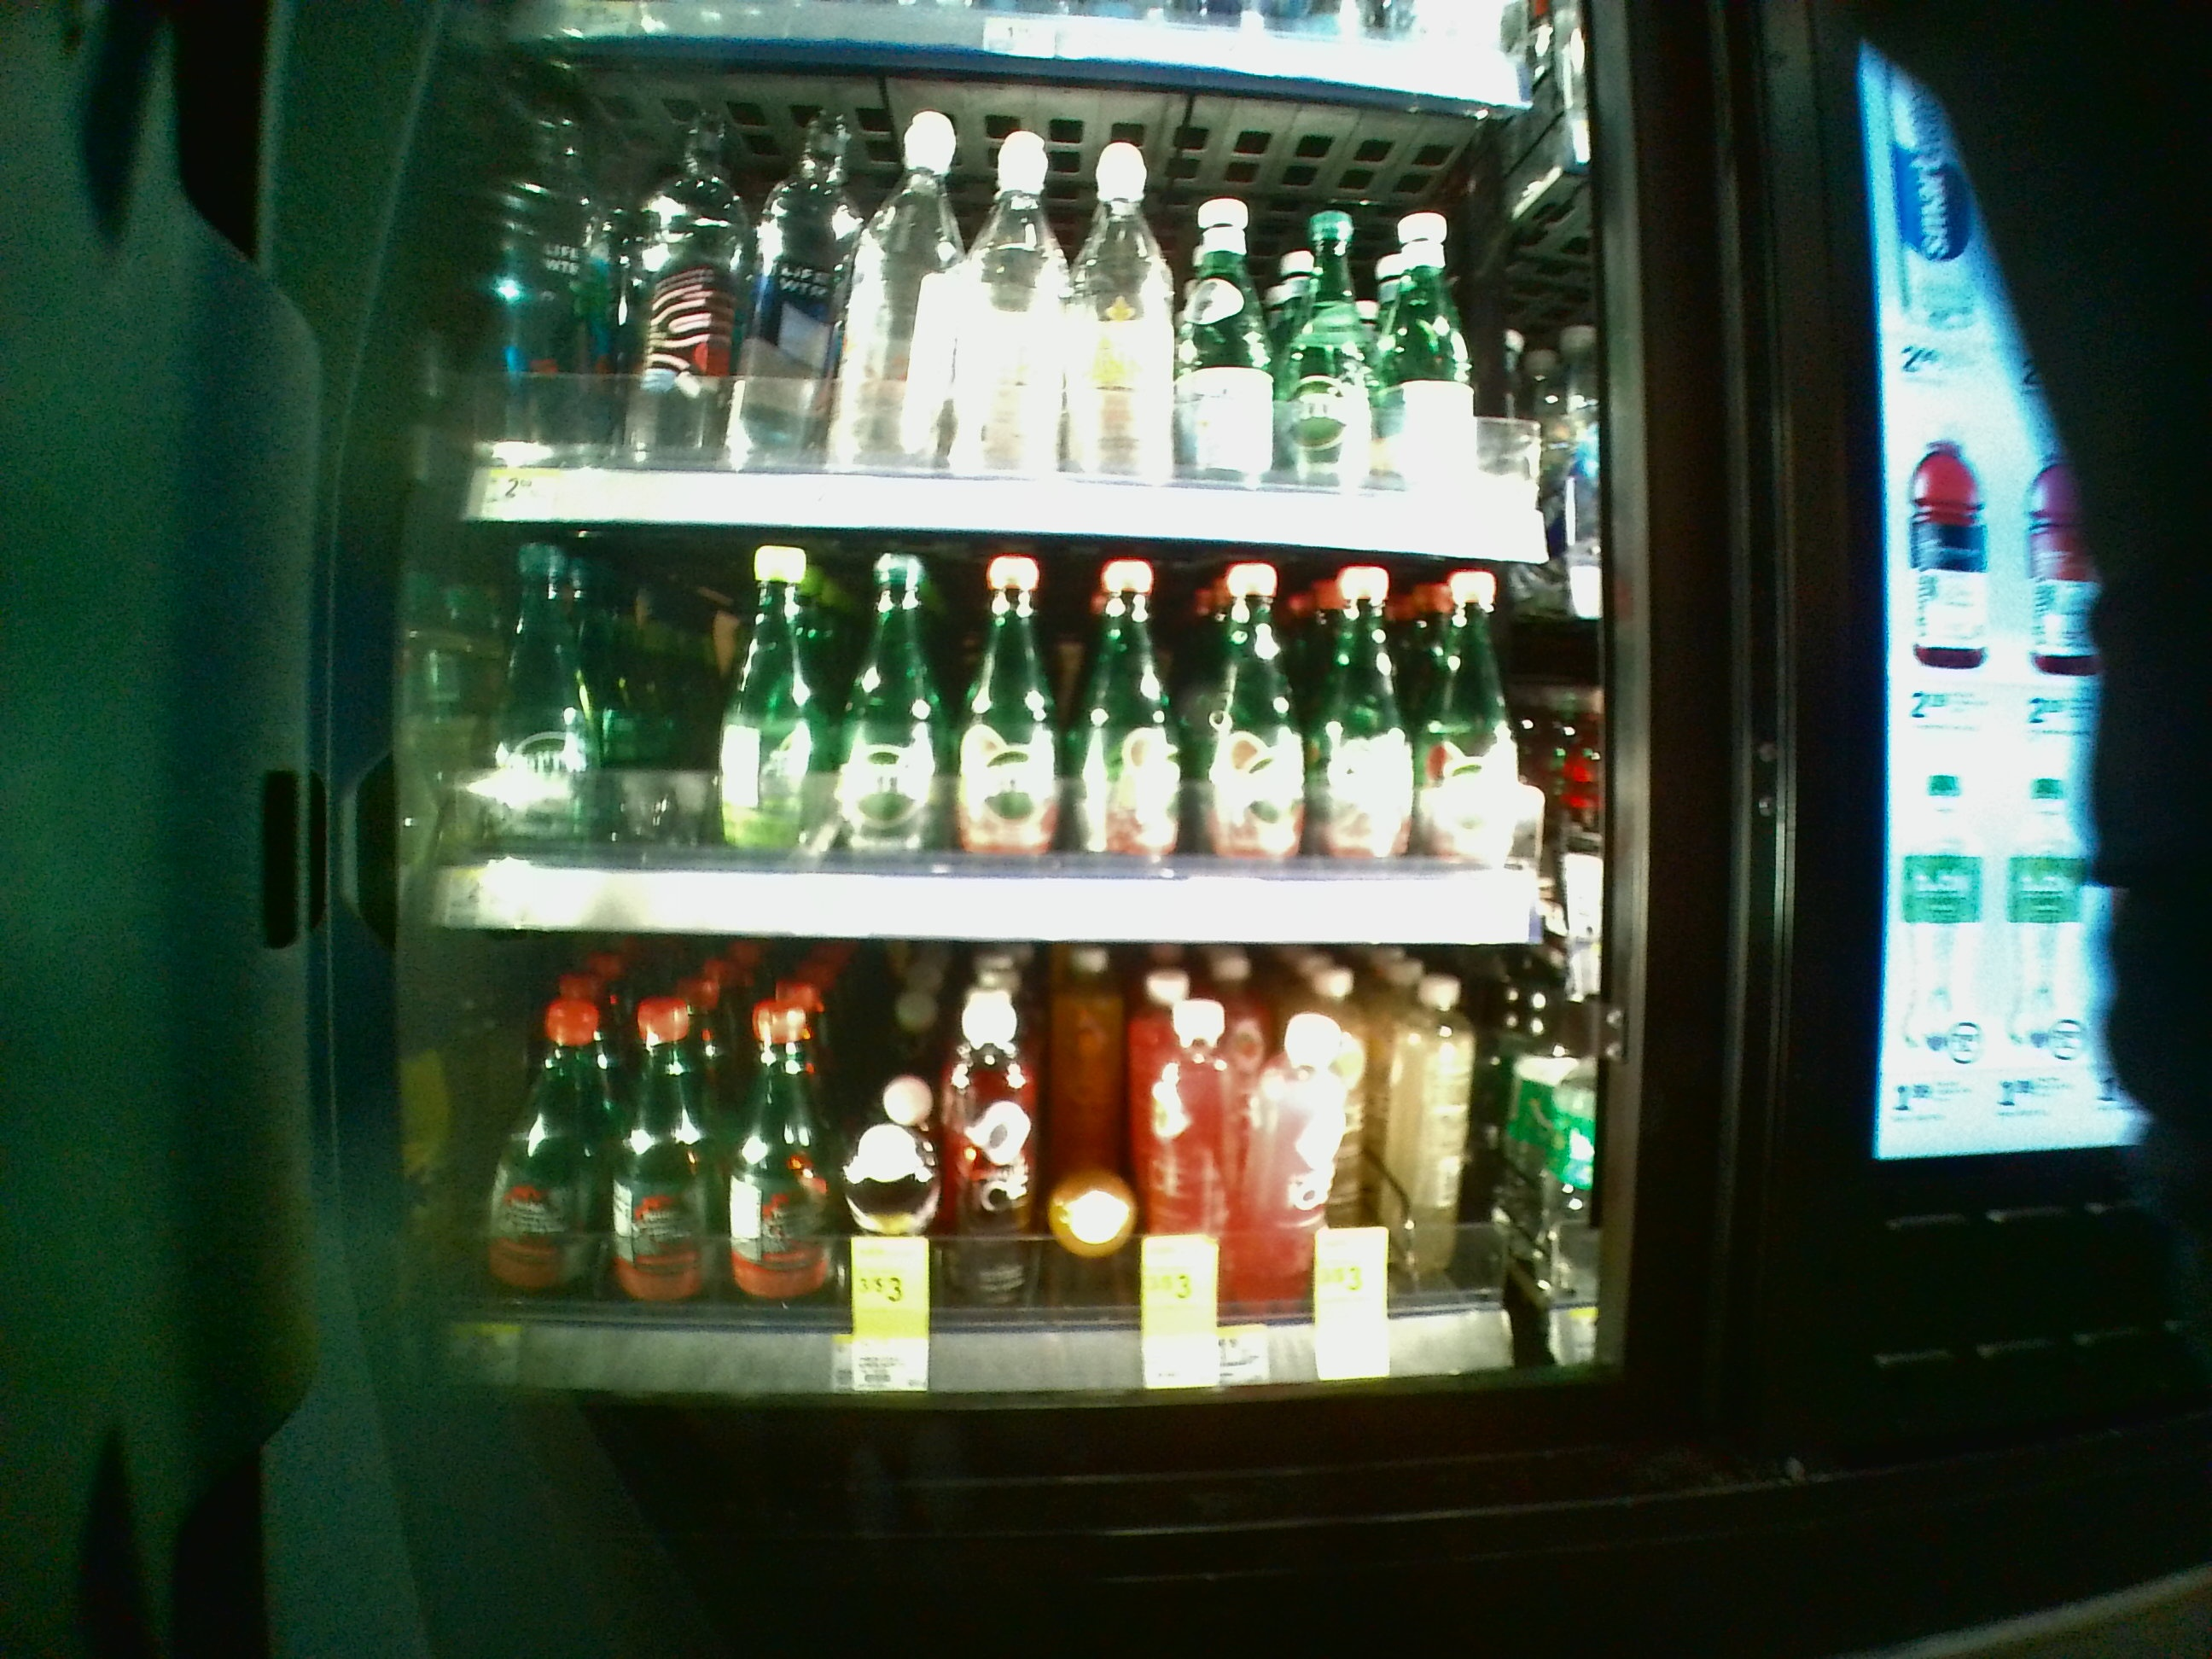Shelf: (409, 945, 1581, 1399), (411, 523, 1588, 943)
